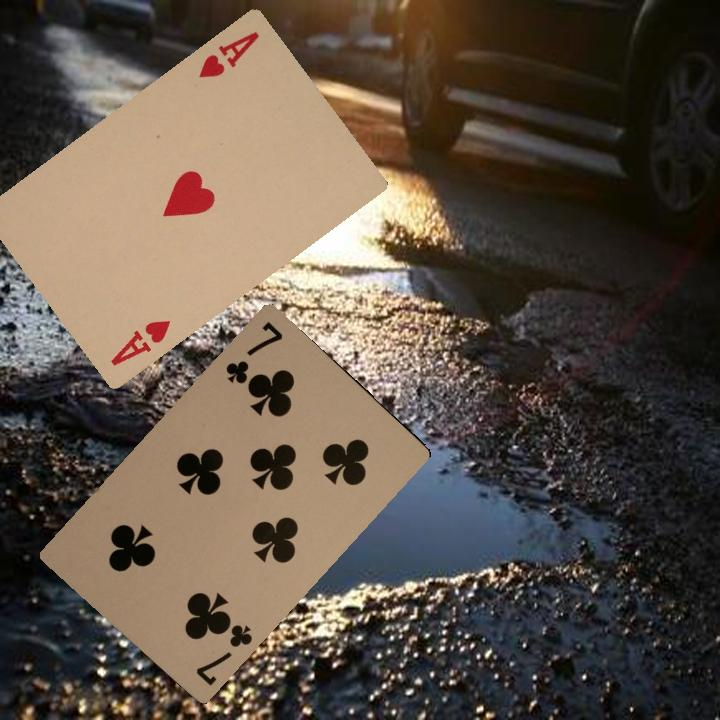7c: (191, 614, 255, 688), (221, 317, 286, 387)
Ah: (194, 27, 262, 81), (106, 315, 174, 369)
